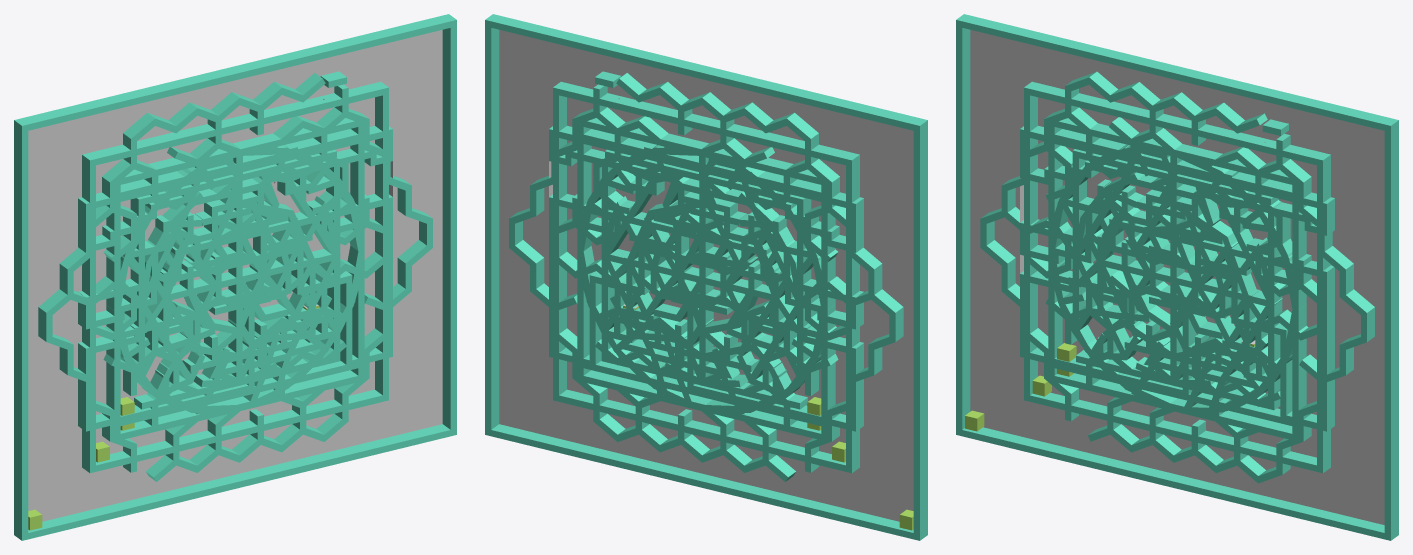
Rendered from Maze.glb.
The picture shows the model from 3 angles, left to right: view 1: azimuth 30°, elevation 25°; view 2: azimuth 150°, elevation 25°; view 3: azimuth 330°, elevation 25°; orthographic projection.
Parts seen in each view (by area): view 1: Layer_001, Cube.002, Layer_001.003, Layer_001.004, Layer_001.005, Layer_001.001, Layer_001.002, Cube.004, Cube.010, Cube.001; view 2: Layer_001, Cube.002, Layer_001.003, Layer_001.004, Layer_001.005, Layer_001.001, Layer_001.002, Cube.004, Cube.010, Cube.001; view 3: Layer_001, Cube.002, Layer_001.003, Layer_001.004, Layer_001.005, Layer_001.001, Layer_001.002, Cube.004, Cube.010, Cube.001.
Boxes of the visible parts, <box> form: Layer_001: <box>14,14,456,540</box>; Cube.002: <box>28,30,442,521</box>; Layer_001.003: <box>82,81,388,473</box>; Layer_001.004: <box>106,118,364,439</box>; Layer_001.005: <box>78,125,392,431</box>; Layer_001.001: <box>106,129,364,426</box>; Layer_001.002: <box>114,146,364,414</box>; Cube.004: <box>96,97,374,453</box>; Cube.010: <box>78,161,392,414</box>; Cube.001: <box>120,146,350,373</box>; Layer_001: <box>485,14,927,540</box>; Cube.002: <box>499,30,913,521</box>; Layer_001.003: <box>553,81,859,473</box>; Layer_001.004: <box>577,118,835,439</box>; Layer_001.005: <box>549,125,863,431</box>; Layer_001.001: <box>577,129,835,426</box>; Layer_001.002: <box>577,146,825,414</box>; Cube.004: <box>567,97,845,453</box>; Cube.010: <box>549,140,863,414</box>; Cube.001: <box>592,148,821,400</box>; Layer_001: <box>956,14,1398,540</box>; Cube.002: <box>970,30,1384,524</box>; Layer_001.003: <box>1024,81,1330,473</box>; Layer_001.004: <box>1048,118,1306,439</box>; Layer_001.005: <box>1020,125,1334,431</box>; Layer_001.001: <box>1048,129,1306,425</box>; Layer_001.002: <box>1048,144,1297,414</box>; Cube.004: <box>1038,97,1316,457</box>; Cube.010: <box>1020,140,1334,414</box>; Cube.001: <box>1074,185,1292,408</box>.
Bounding box in the file's own units: 70.72 × 64.5 × 2.25.
